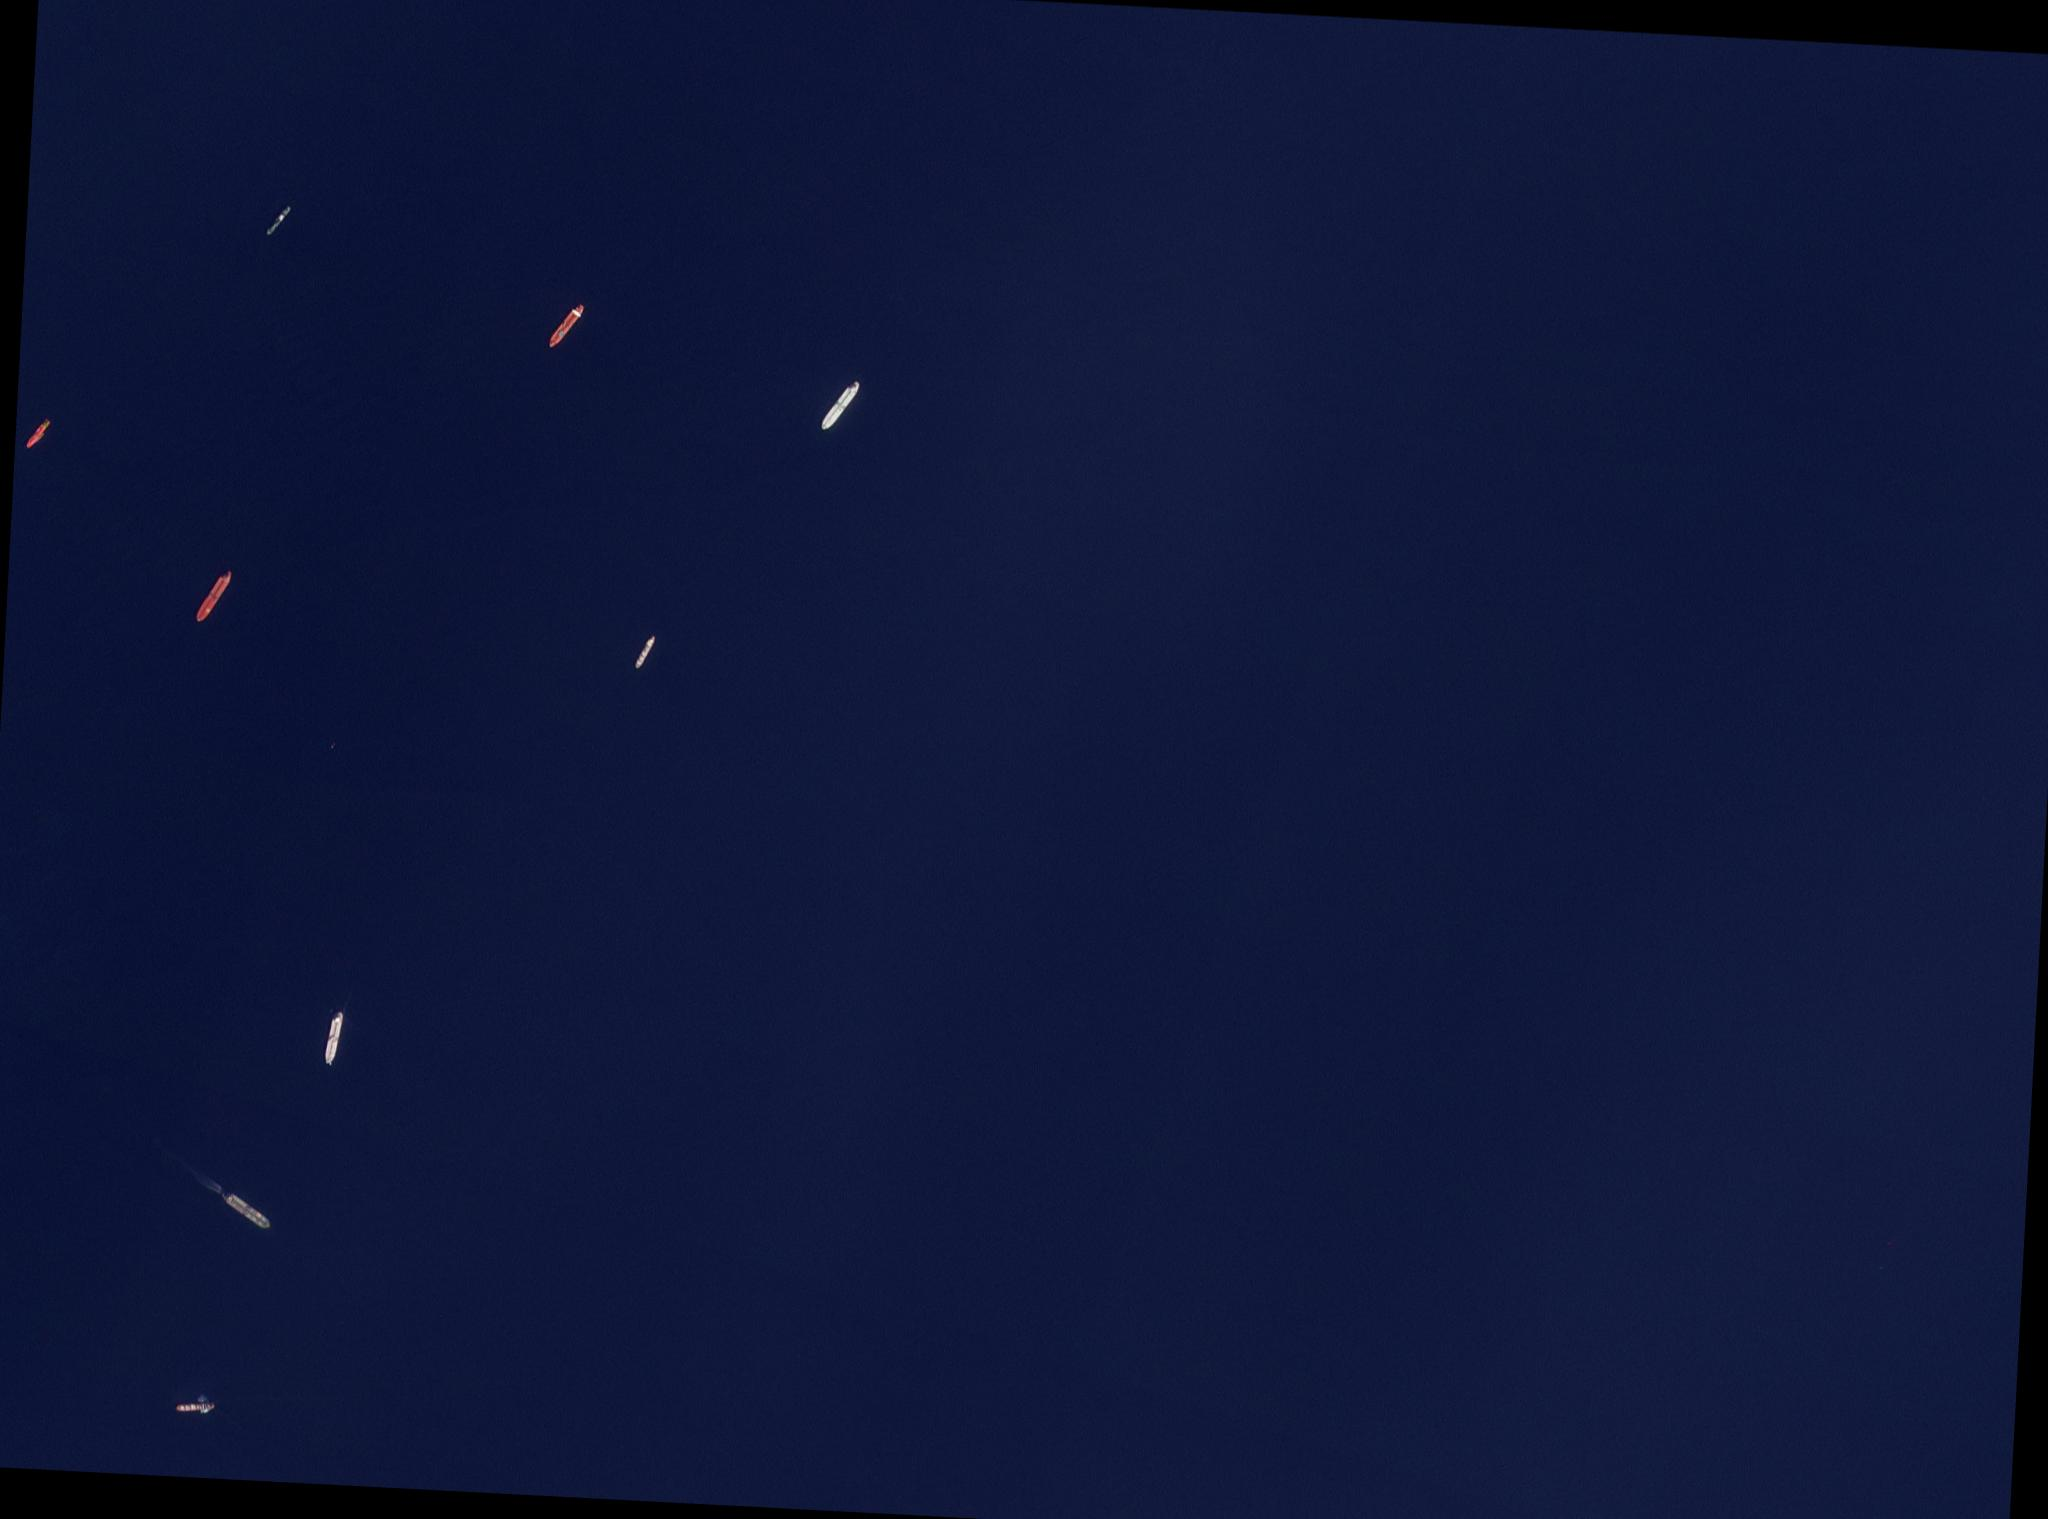ship: (161, 1152, 231, 1200), (821, 378, 861, 432), (196, 568, 233, 622), (222, 1192, 273, 1230), (550, 300, 584, 349), (324, 1010, 345, 1066), (26, 415, 51, 448), (266, 204, 292, 236), (635, 635, 656, 670), (175, 1399, 215, 1414)
